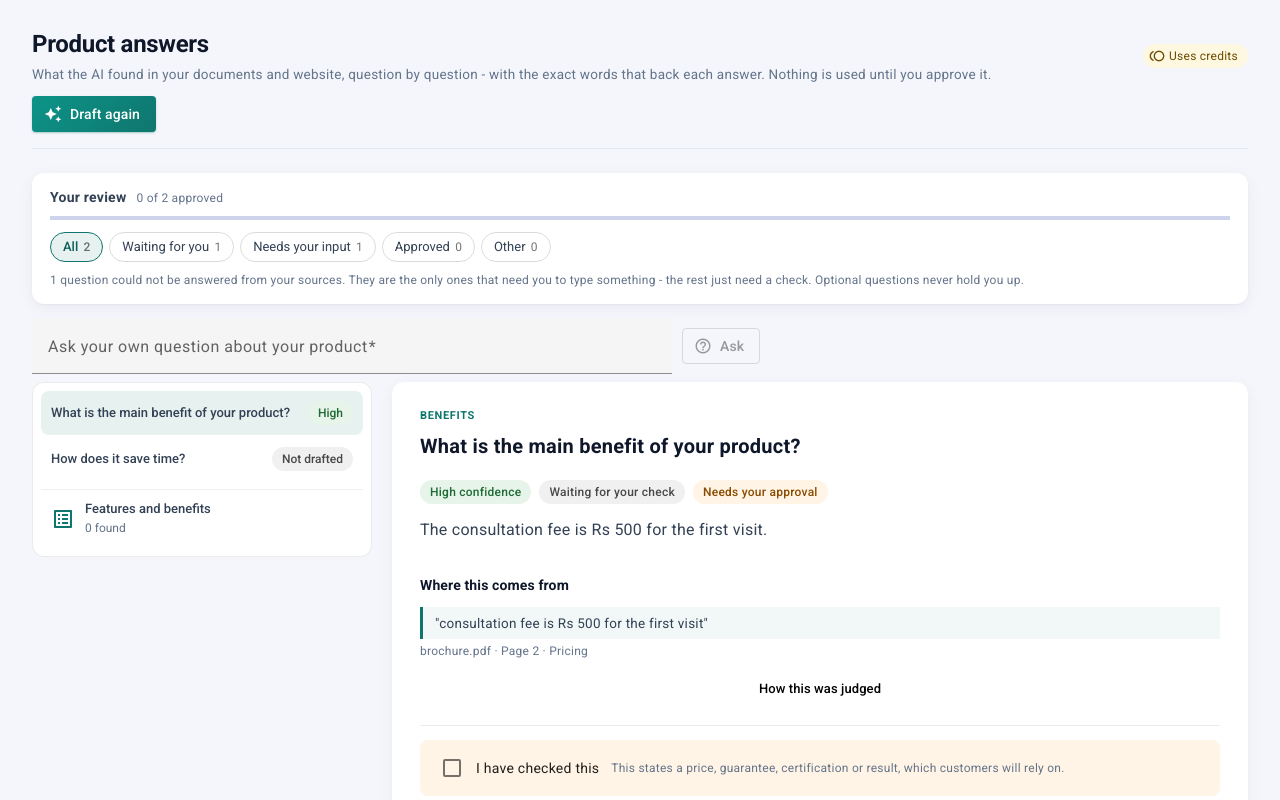
Test: ProductAnswersComponent › lists every question with its confidence, and shows an undrafted one as not drafted with a way to suggest an answer
Click the button "How does it save time? Not drafted": (118, 459) [41,437,363,481]
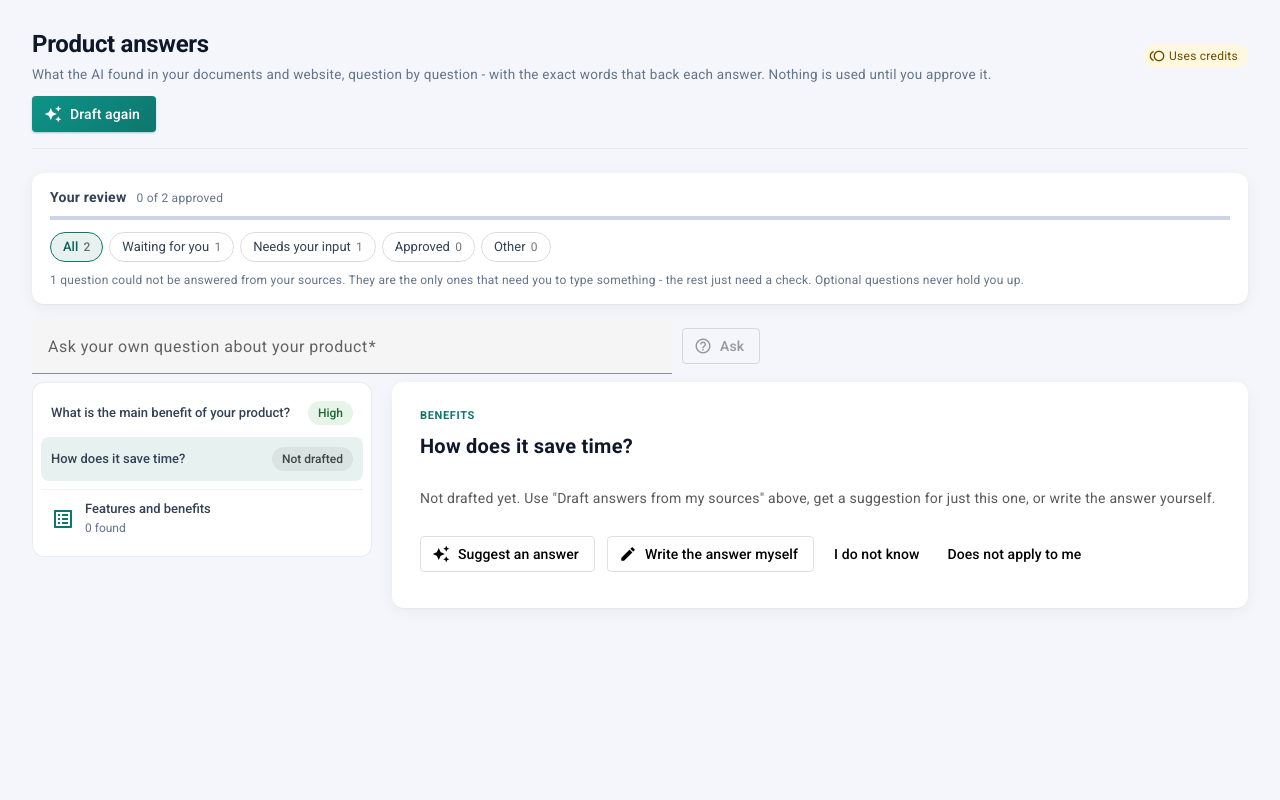
Now the element with test id "not-drafted" is shown, box [420,480,1220,580]
